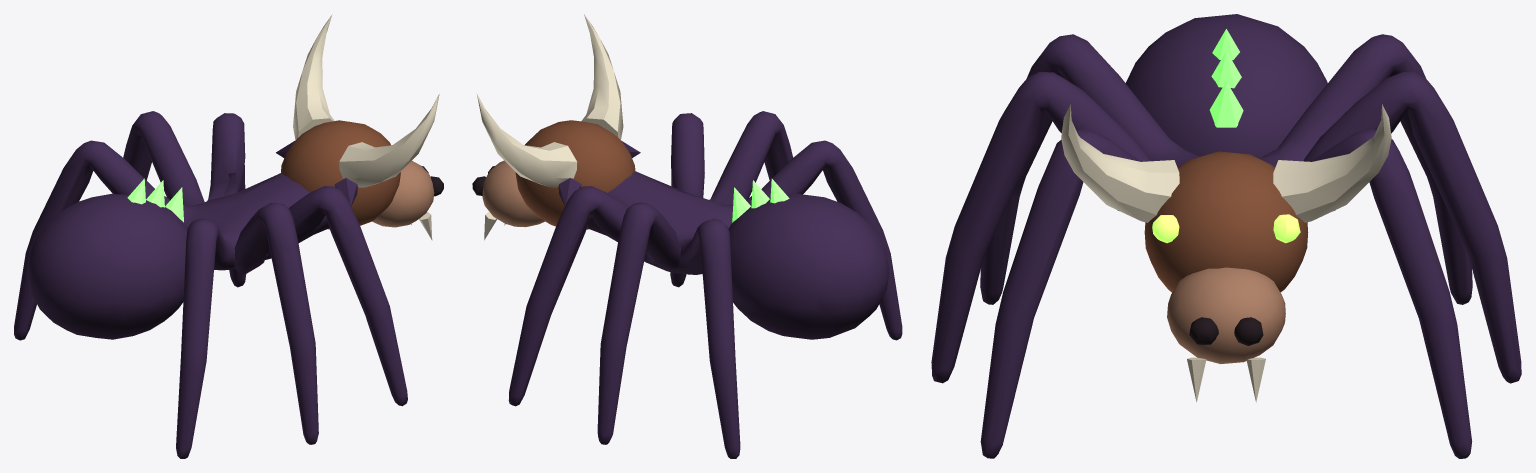
File: ushi-oni.glb
The picture shows the model from 3 angles, left to right: view 1: azimuth 30°, elevation 25°; view 2: azimuth 150°, elevation 25°; view 3: azimuth 270°, elevation 25°; orthographic projection. The views are drawn at different scales.
Parts seen in each view (by area): view 1: ushi-oni.001; view 2: ushi-oni.001; view 3: ushi-oni.001.
Boxes of the visible parts, box(x1,y1,x2,y2) form: ushi-oni.001: box(14, 14, 443, 458); ushi-oni.001: box(472, 14, 902, 458); ushi-oni.001: box(931, 14, 1521, 458).
Bounding box in the file's own units: 2.69 × 1.79 × 2.38.
